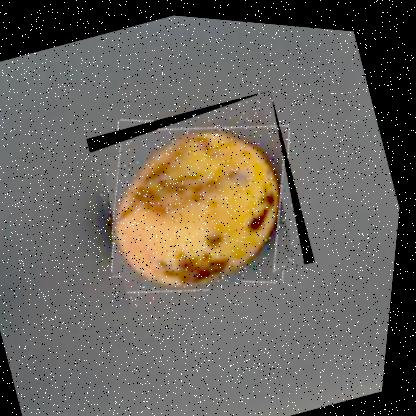mango_rotten: (74, 72, 331, 321)
